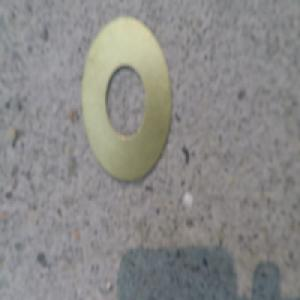Washer: (79, 22, 170, 185)
